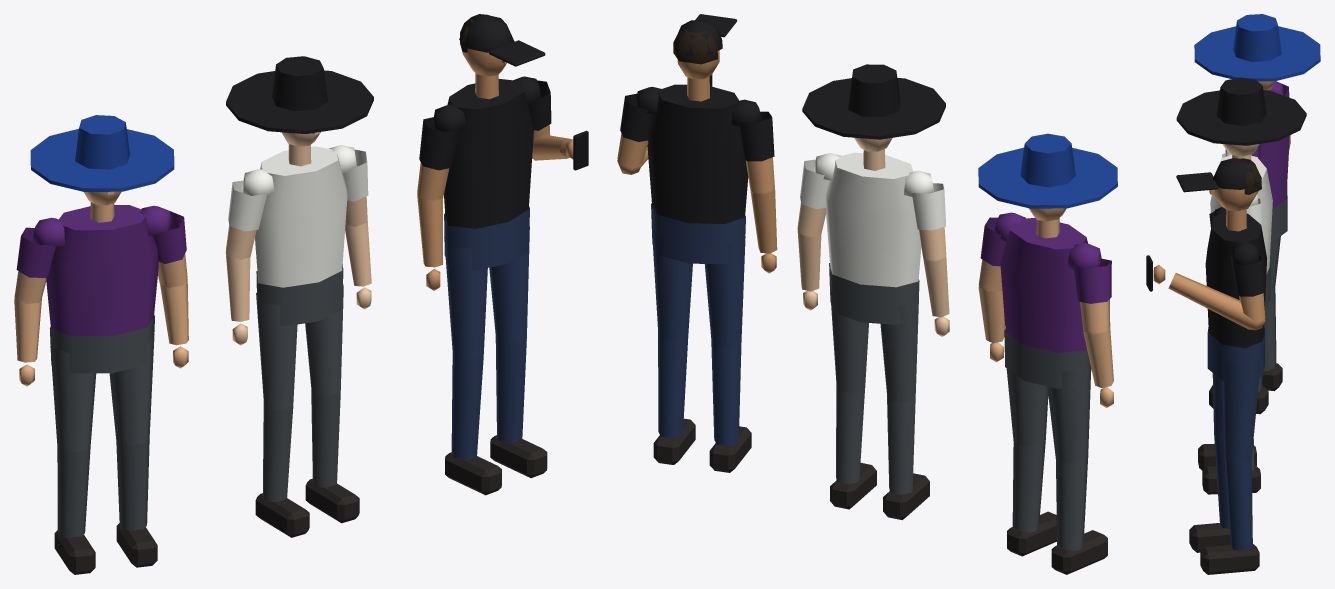
The model's file is crowd_b.dae.
The picture shows the model from 3 angles, left to right: view 1: azimuth 30°, elevation 25°; view 2: azimuth 150°, elevation 25°; view 3: azimuth 270°, elevation 25°; orthographic projection. The views are drawn at different scales.
Parts seen in each view (by area): view 1: marker; view 2: marker; view 3: marker.
Part boxes in pixels (x1,y1,x2,y2): marker: [14, 14, 588, 574]; marker: [617, 14, 1117, 574]; marker: [1146, 14, 1320, 574].
Size of the model in its own units: 2.18 by 0.7222 by 1.83.
Materials: 1 (1 with a texture image).
